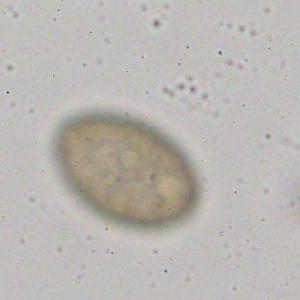Fasciola_hepatica_egg: (53, 110, 201, 229)
